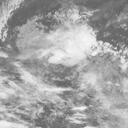cyclone: (45, 21, 100, 68)
